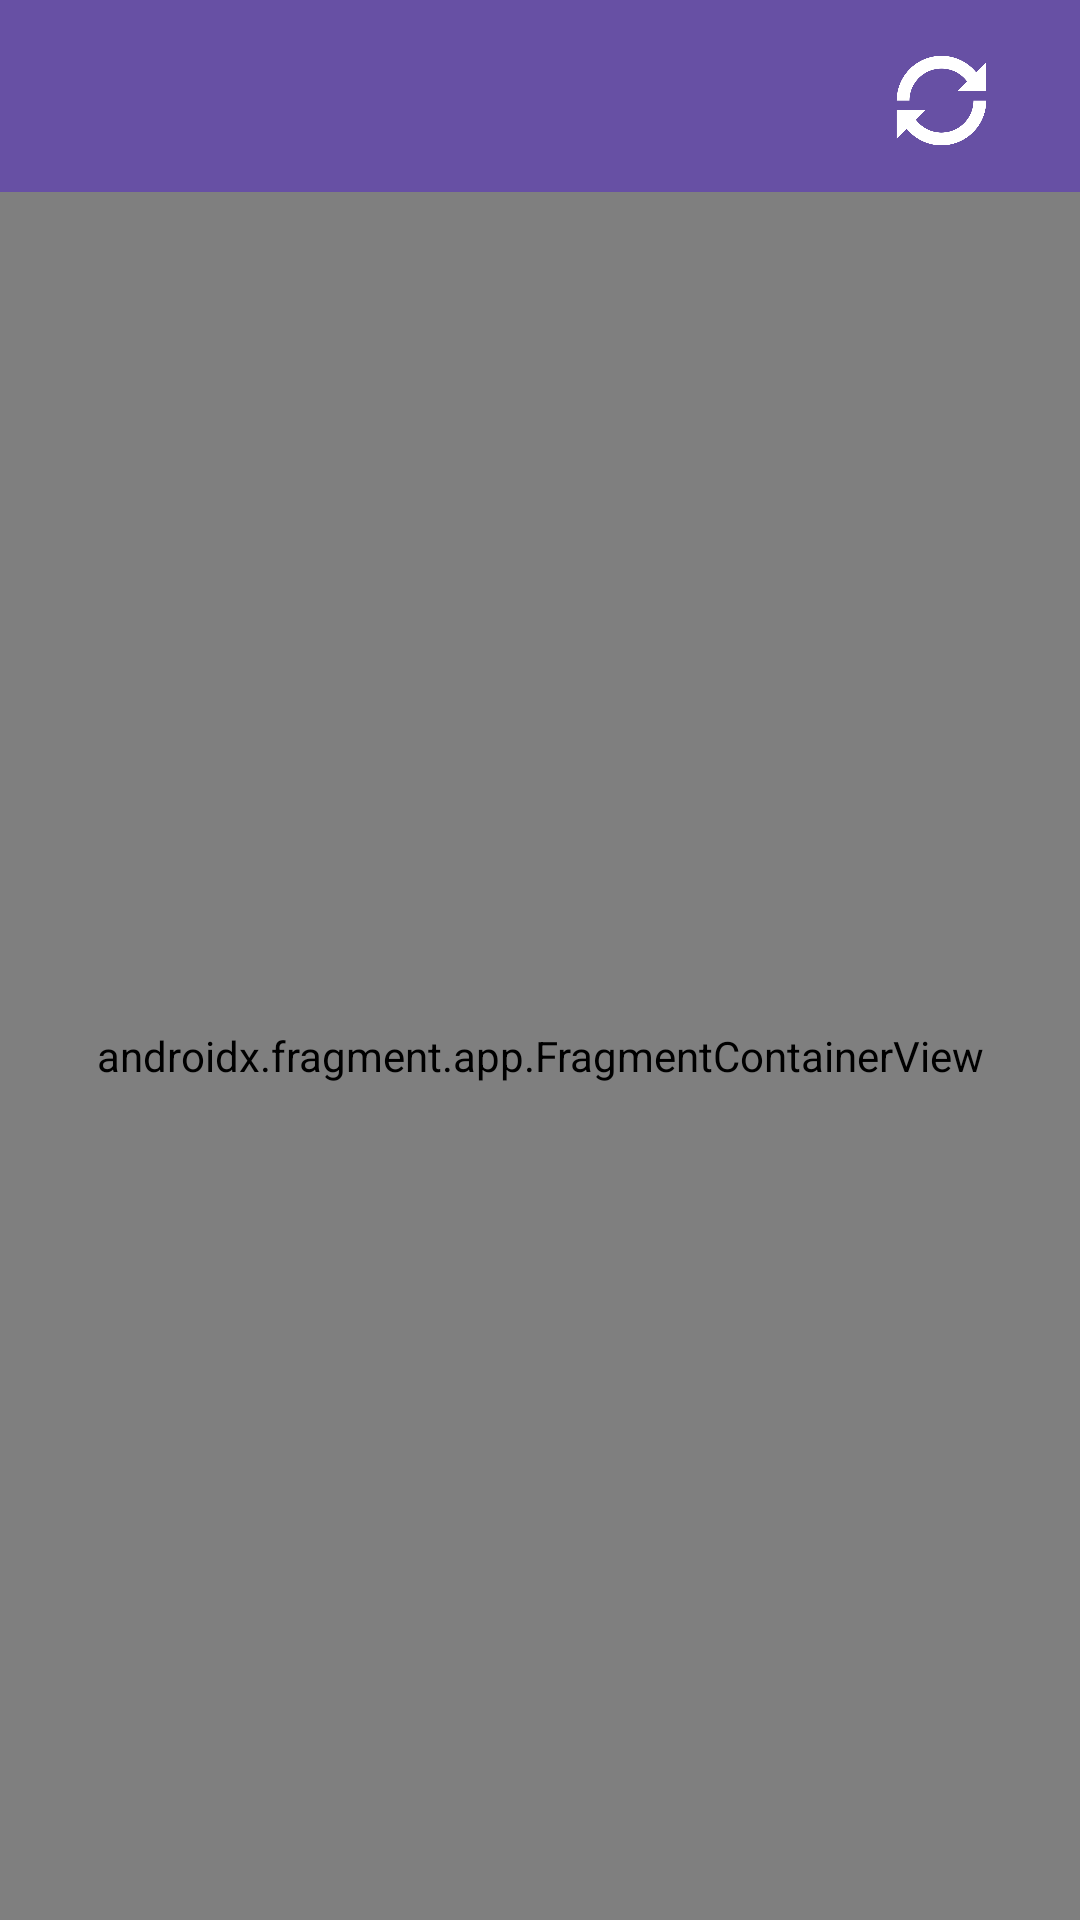

Icons on this 1080*1920 Android screen, each with its box as (x1, y1, x2, y2):
refresh: (897, 56, 986, 145)
